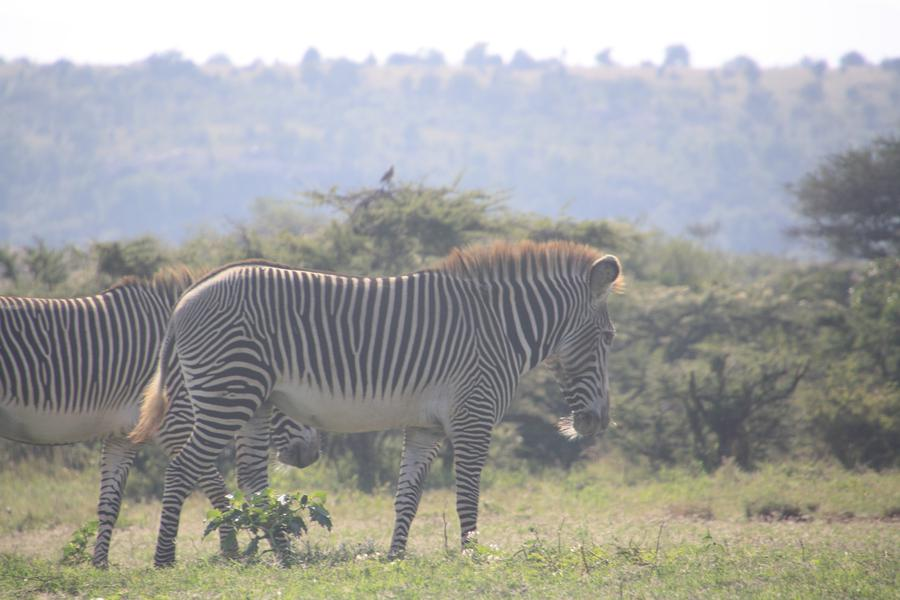zebra_grevys: (184, 250, 500, 425)
